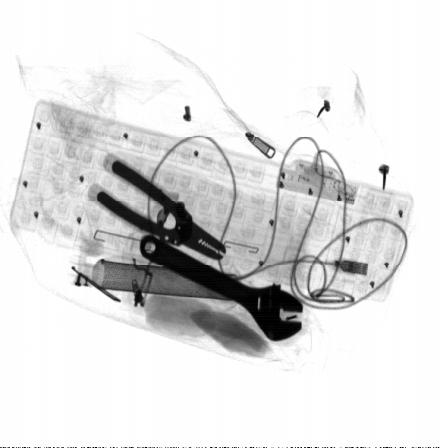Pliers: (87, 151, 228, 261)
Wrench: (137, 232, 303, 341)
